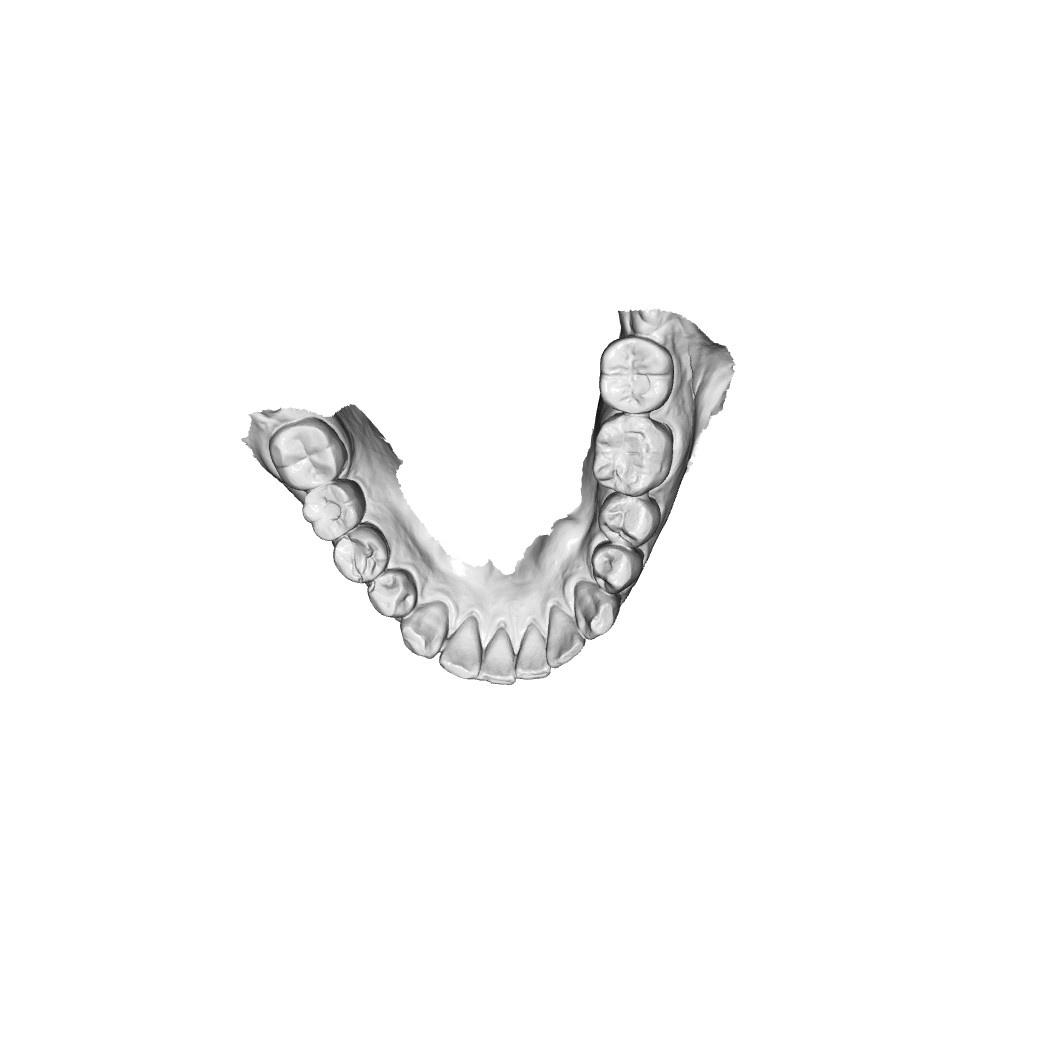canine: (572, 581, 623, 639), (399, 603, 449, 659)
incisor: (439, 621, 487, 680), (513, 621, 559, 680), (543, 605, 585, 669), (479, 630, 523, 687)
molar: (595, 413, 671, 498), (598, 332, 674, 414), (267, 421, 341, 493), (301, 478, 367, 544)
premolar: (594, 491, 663, 548), (331, 525, 387, 583), (589, 540, 646, 594), (367, 567, 419, 619)
